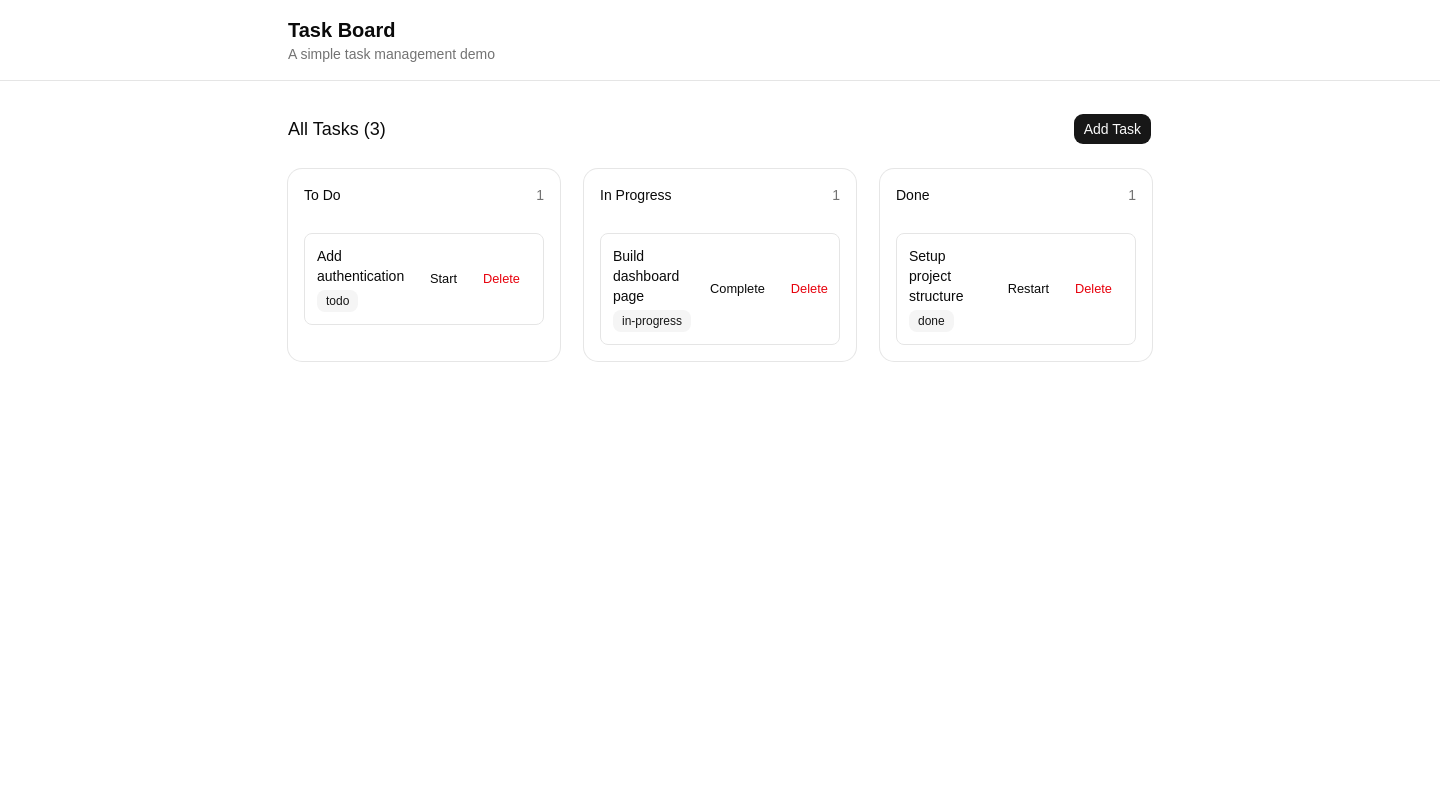
Test: App › opens add task dialog and creates a new task
Click the button "Add Task": (1112, 129) left=1073, top=113, right=1152, bottom=145
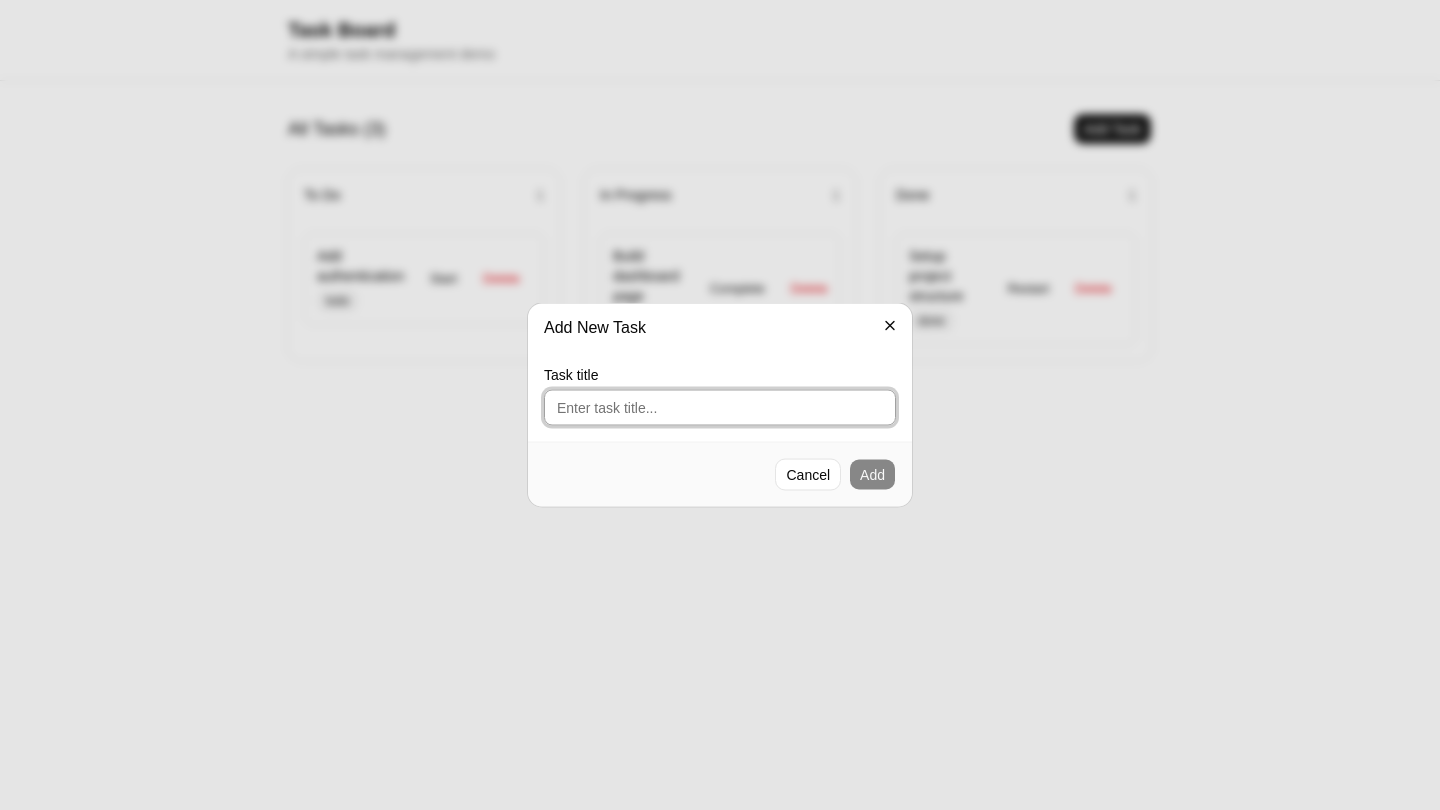
Expected: the heading "Add New Task" is shown, left=544, top=318, right=646, bottom=336
In the field with placeholder "Enter task title...": (720, 408) left=544, top=390, right=896, bottom=426, type "New test task"
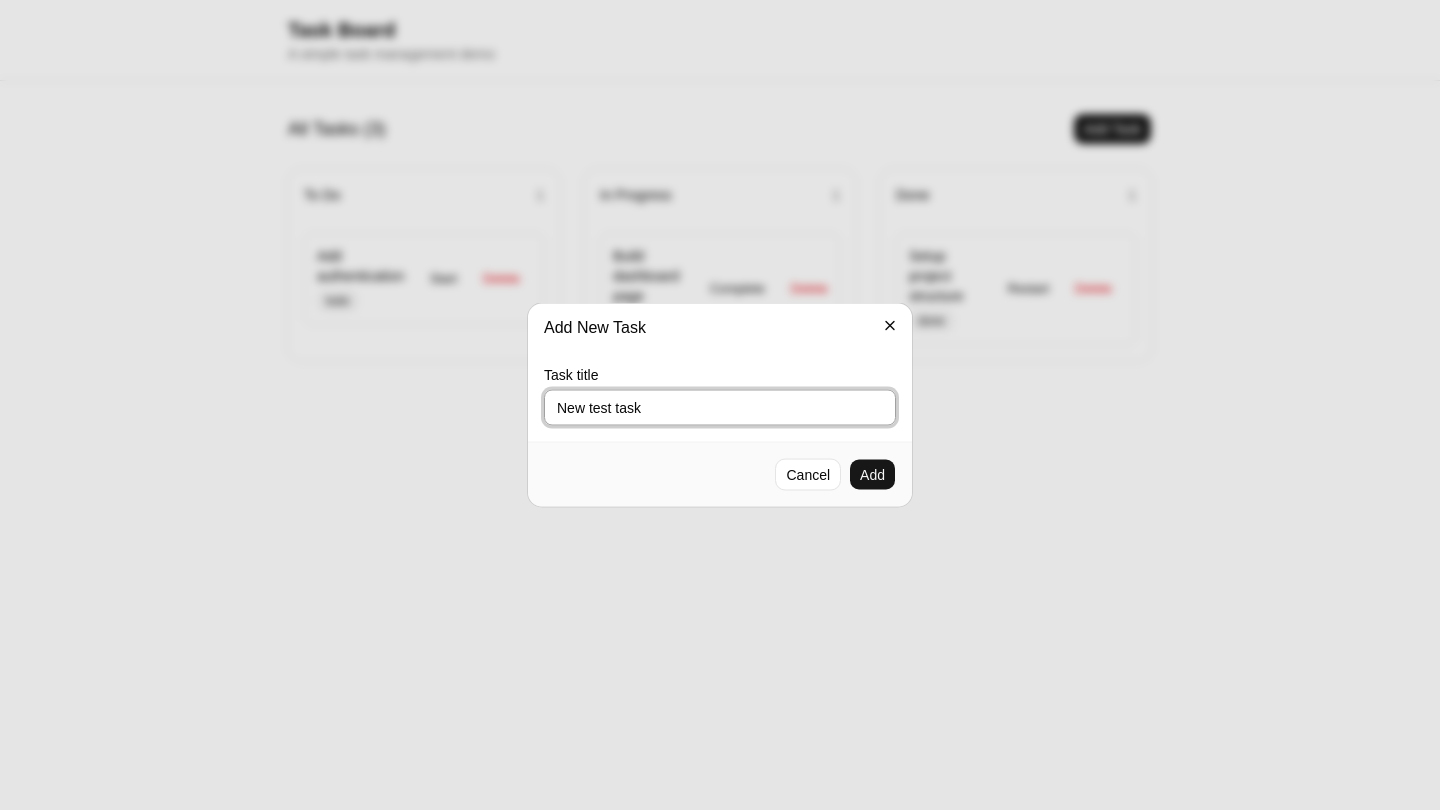
Click the button "Add": (873, 474) left=849, top=458, right=896, bottom=490
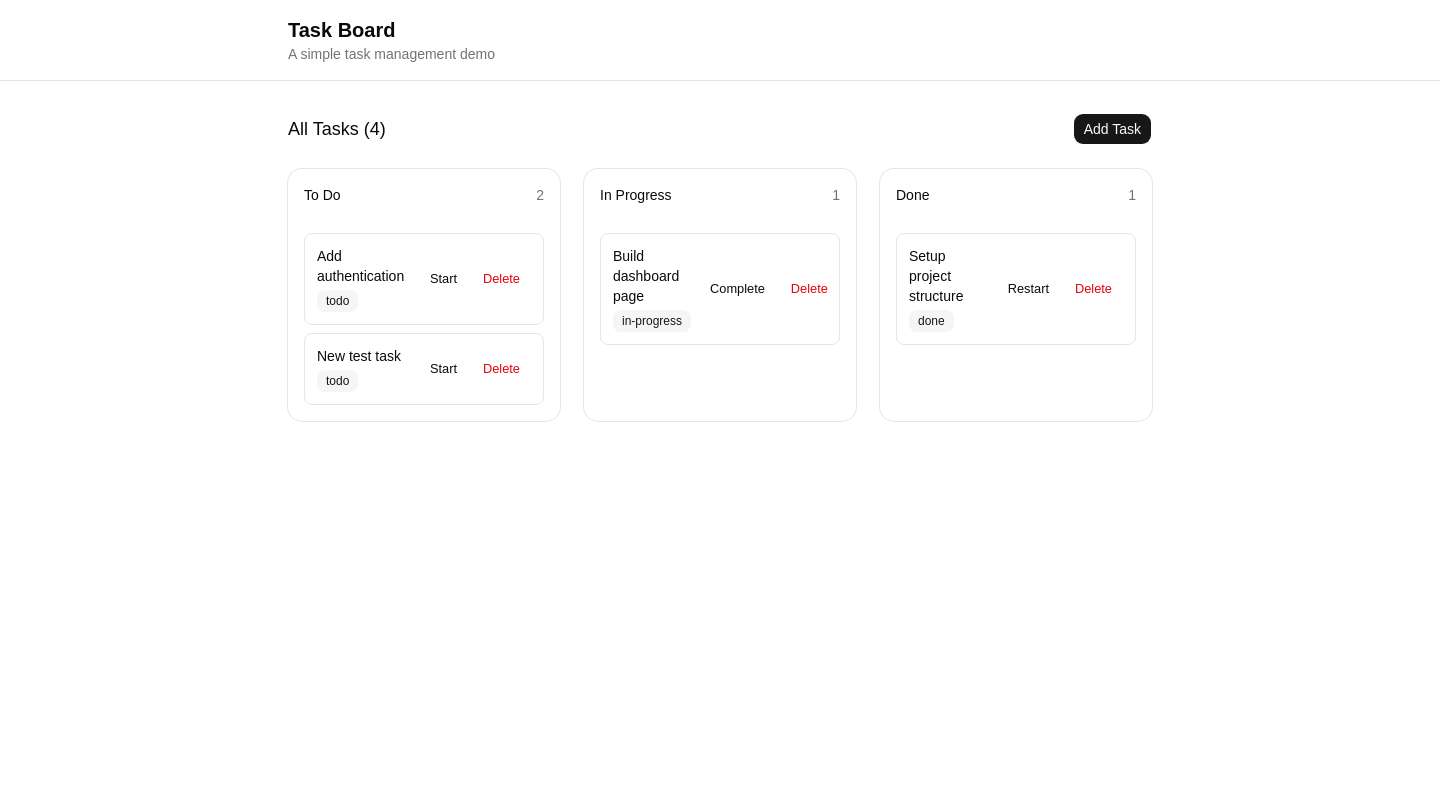
Expected: the text "New test task" is shown, left=317, top=346, right=411, bottom=366
